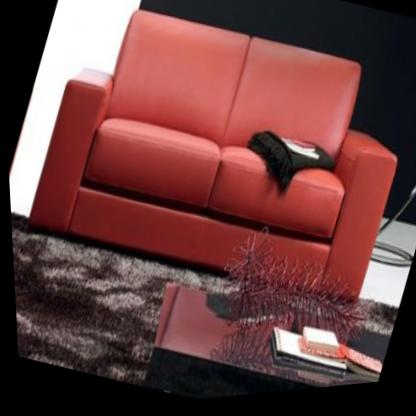Sofa: (7, 0, 416, 344)
